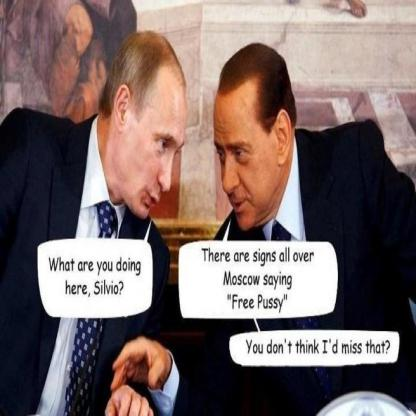face: (213, 89, 277, 232), (129, 66, 189, 215)
